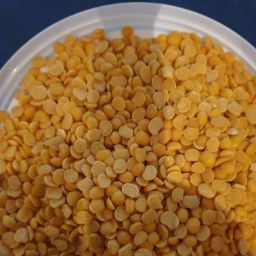Pigeon Pea(toor daal): (5, 25, 256, 256), (19, 61, 256, 256), (54, 43, 253, 185), (52, 92, 173, 256), (153, 57, 250, 256)
